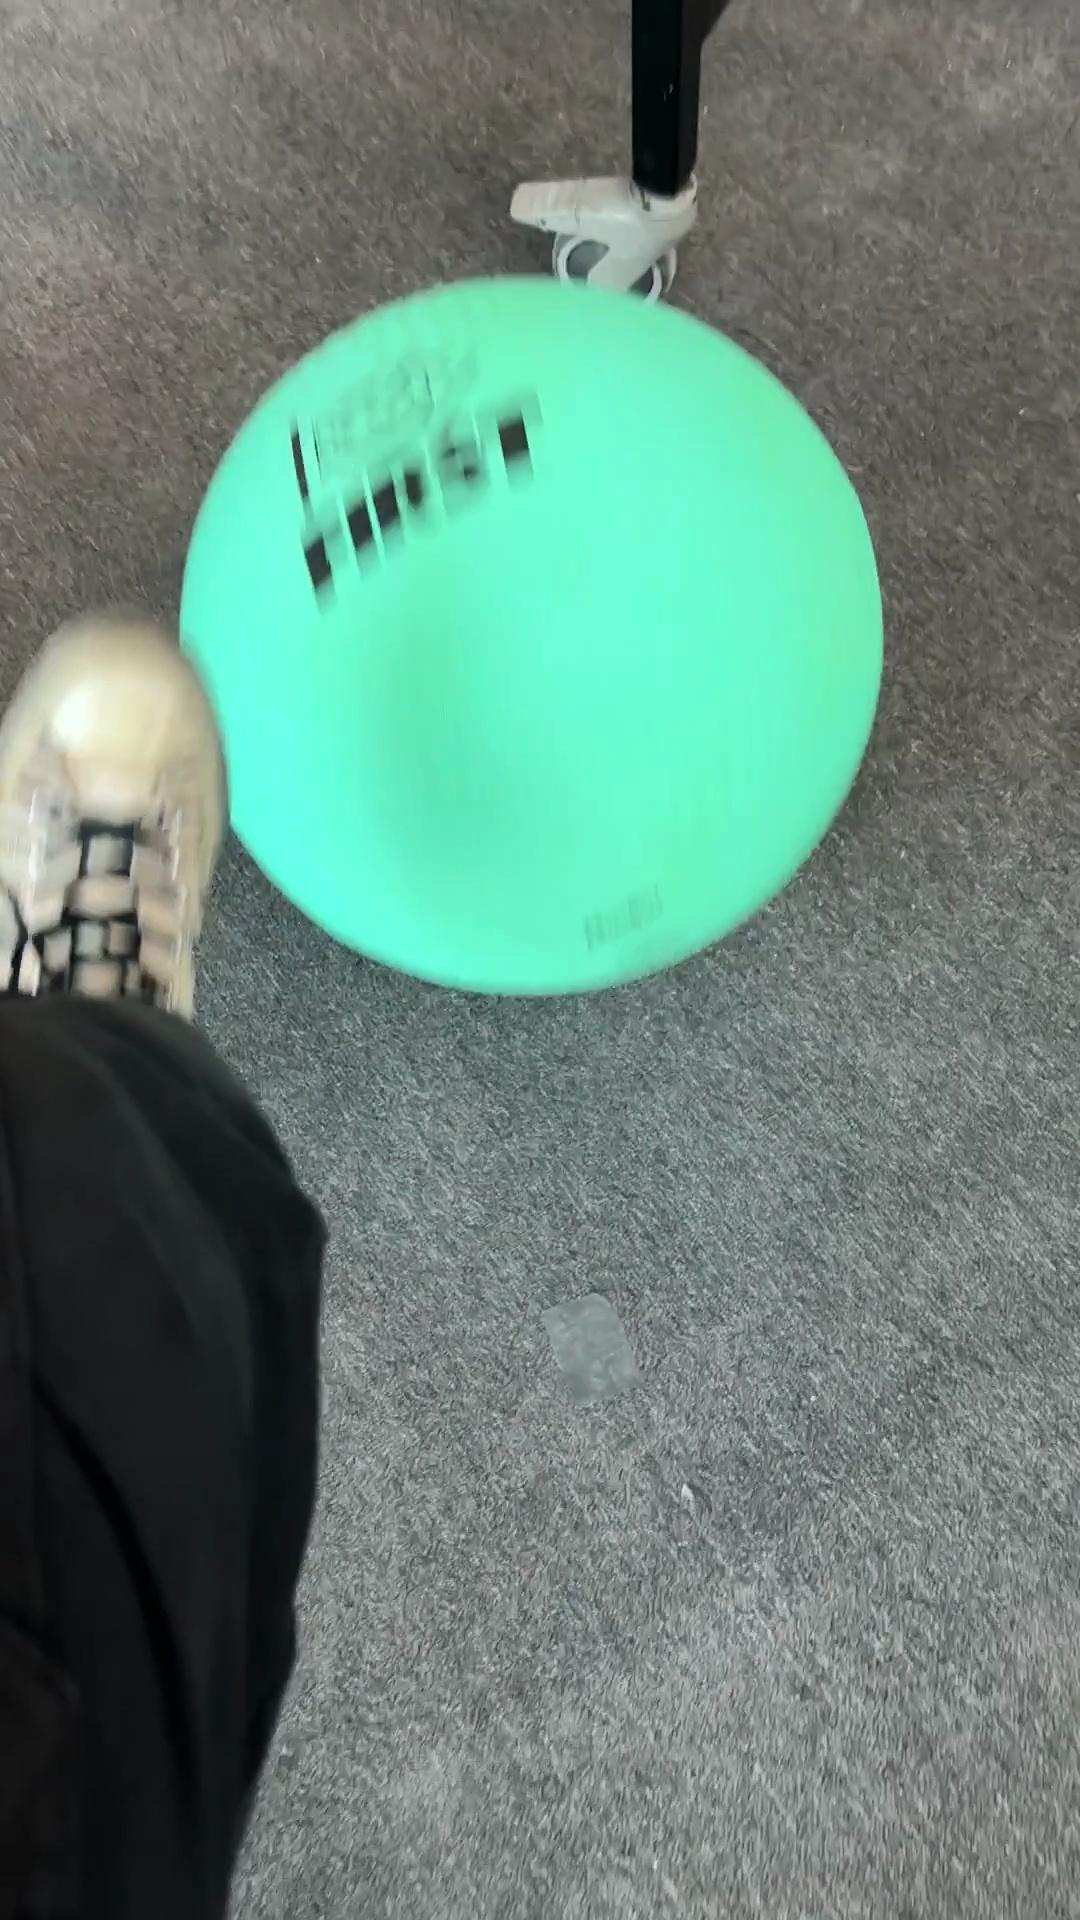ALGAE: (175, 269, 886, 1000)
